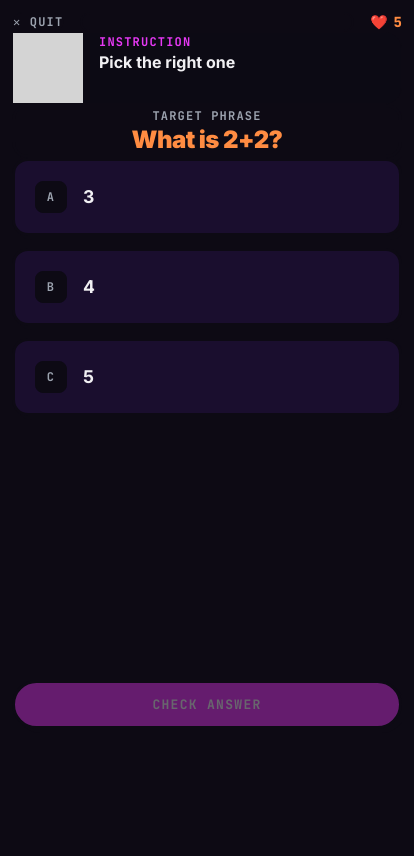
Test: LessonRunner — multiple choice › shows correct feedback for right answer
The width and height of the screenshot is (414, 856).
Click the text "4".
click(89, 286)  # box [83,276,95,297]
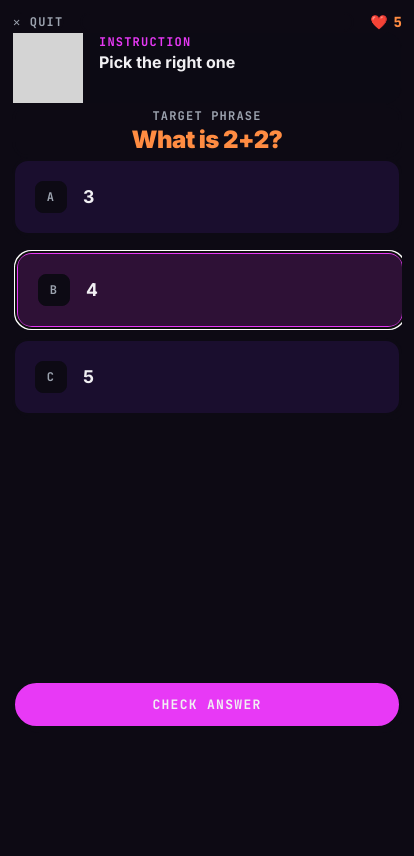
Click the button "CHECK ANSWER".
click(207, 705)  # box [12,680,402,729]
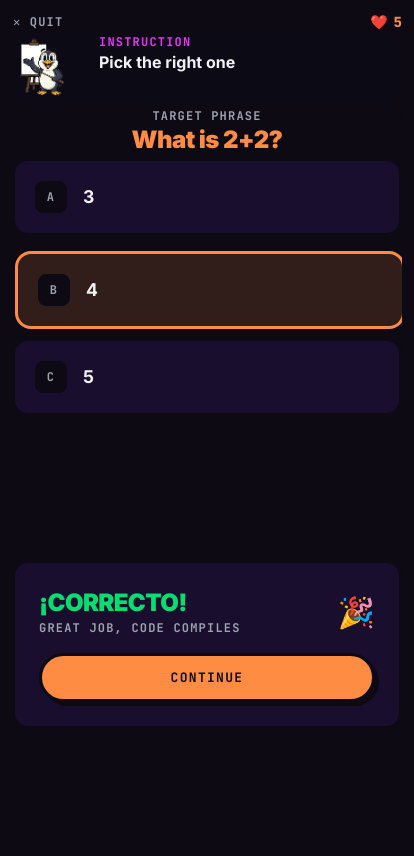
Result: the heading "¡CORRECTO!" is shown at [39,588,187,617]
